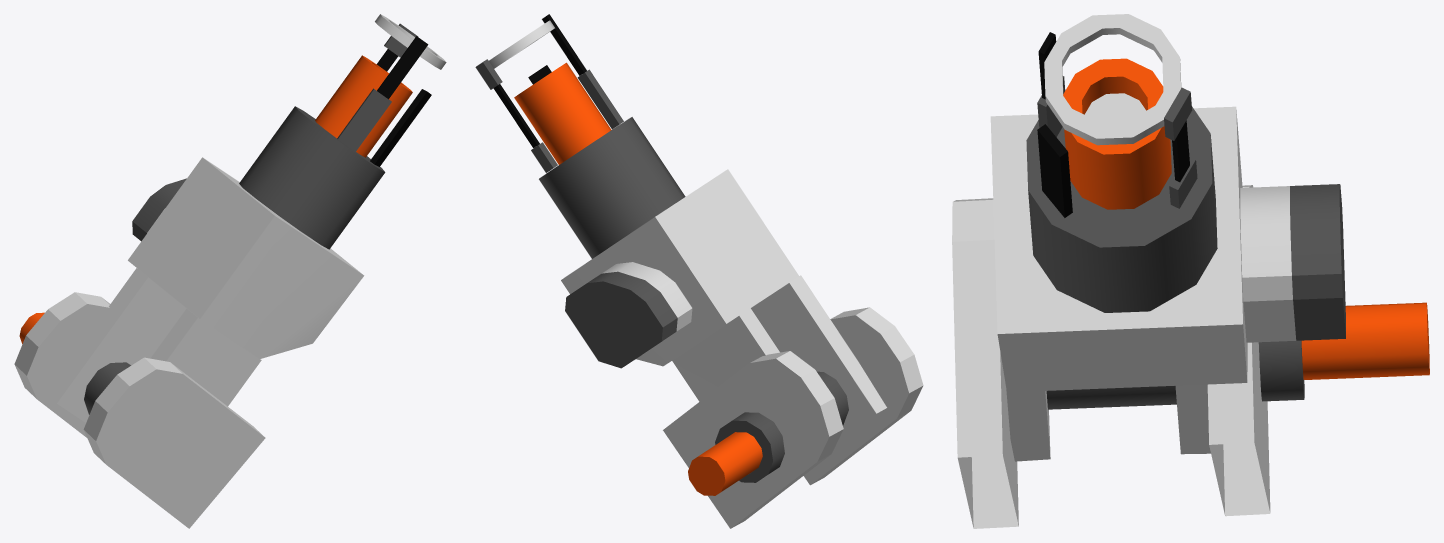
File: Pinza.obj
3 renders of one model, left to right at view 1: azimuth 30°, elevation 25°; view 2: azimuth 150°, elevation 25°; view 3: azimuth 270°, elevation 25°, orthographic. The views are drawn at different scales.
Visible parts, largest first — view 1: Pinza; view 2: Pinza; view 3: Pinza.
Part boxes in pixels (x1,y1,x2,y2): Pinza: [14, 14, 446, 528]; Pinza: [475, 14, 923, 528]; Pinza: [952, 14, 1429, 528].
Bounding box in the file's own units: 1.2 × 1.25 × 0.7572.
